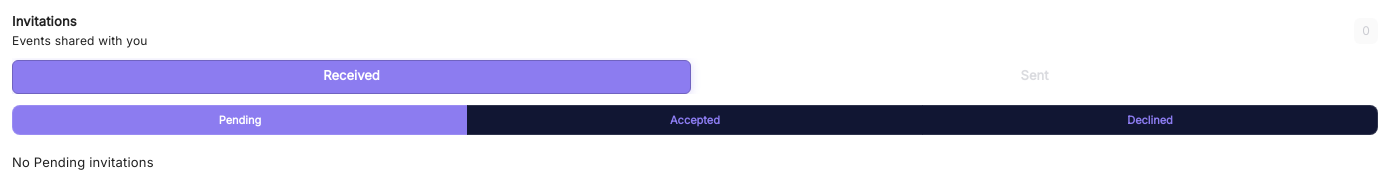
Test: InvitationPanel - lookback and past events › WhenADeclinedInvitationIsOlderThanTheLookbackWindow_IsHiddenFromTheDeclinedTab
Click the button "Declined": point(1150, 120) [922, 105, 1378, 135]
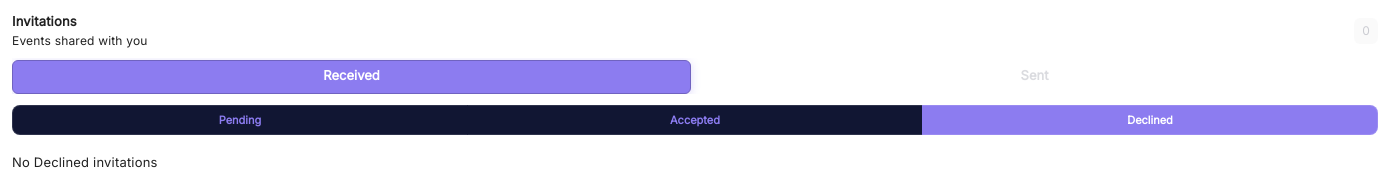
Check: the text "No Declined invitations" is shown, box [12, 154, 158, 170]
